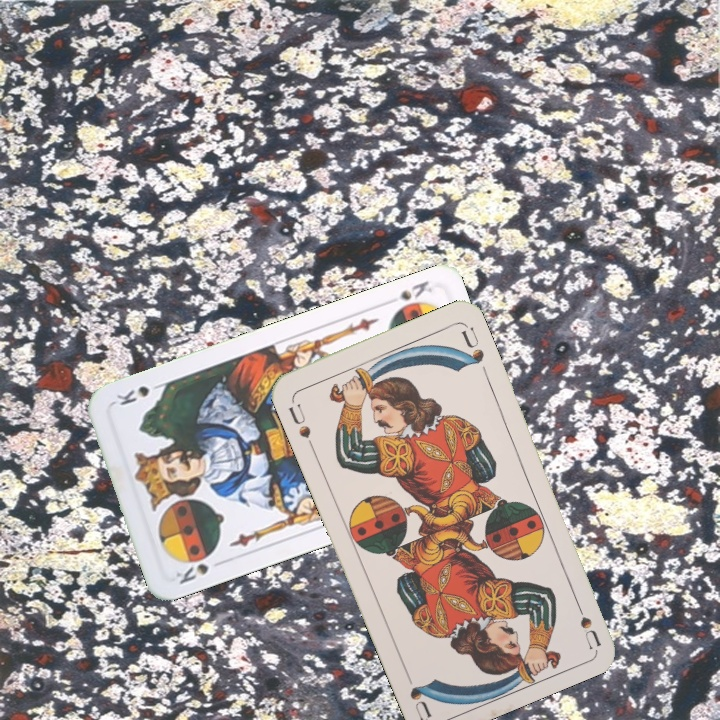SK: (381, 276, 435, 316), (171, 556, 228, 587)
SU: (569, 592, 603, 650), (284, 400, 317, 452)
